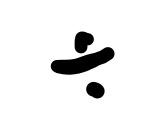div: (52, 32, 112, 97)
